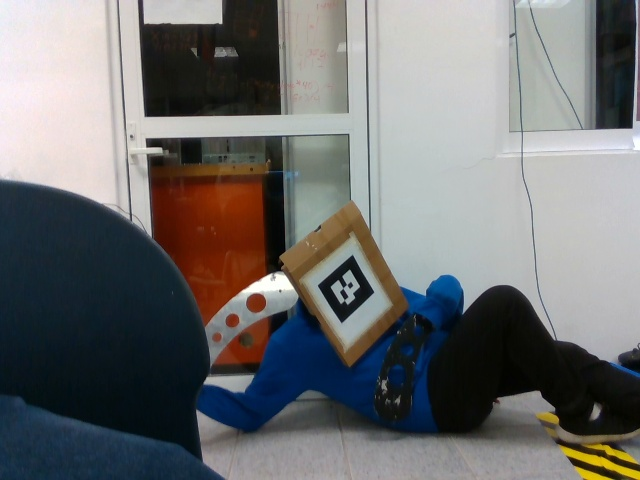ar3: (314, 253, 385, 324)
